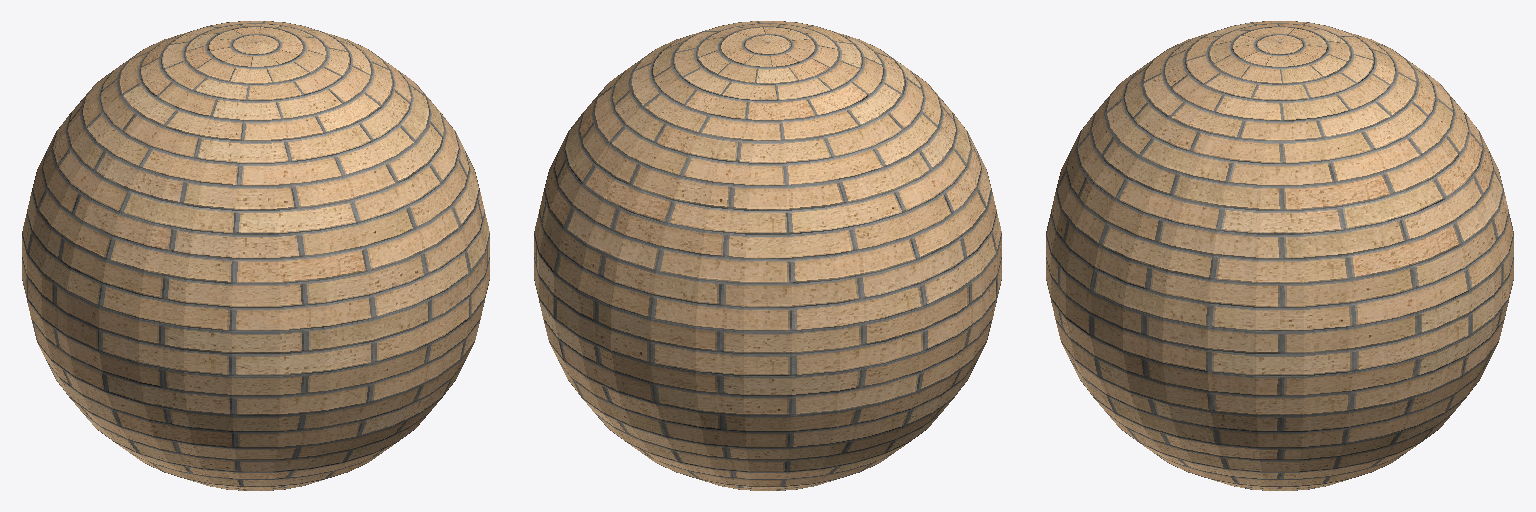
The picture shows the model from 3 angles: view 1: azimuth 30°, elevation 25°; view 2: azimuth 150°, elevation 25°; view 3: azimuth 270°, elevation 25°; orthographic projection.
Visible parts, largest first — view 1: Ball; view 2: Ball; view 3: Ball.
Part boxes in pixels (left/top/right/bottom): Ball: left=22, top=21, right=489, bottom=490; Ball: left=534, top=21, right=1001, bottom=490; Ball: left=1046, top=21, right=1513, bottom=490.
Bounding box in the file's own units: 0.9891 × 1 × 0.9945.
2 materials, 1 textured.